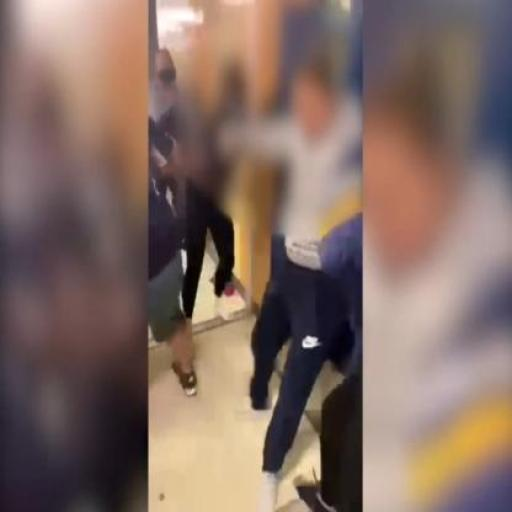Fighting: (144, 51, 360, 512)
